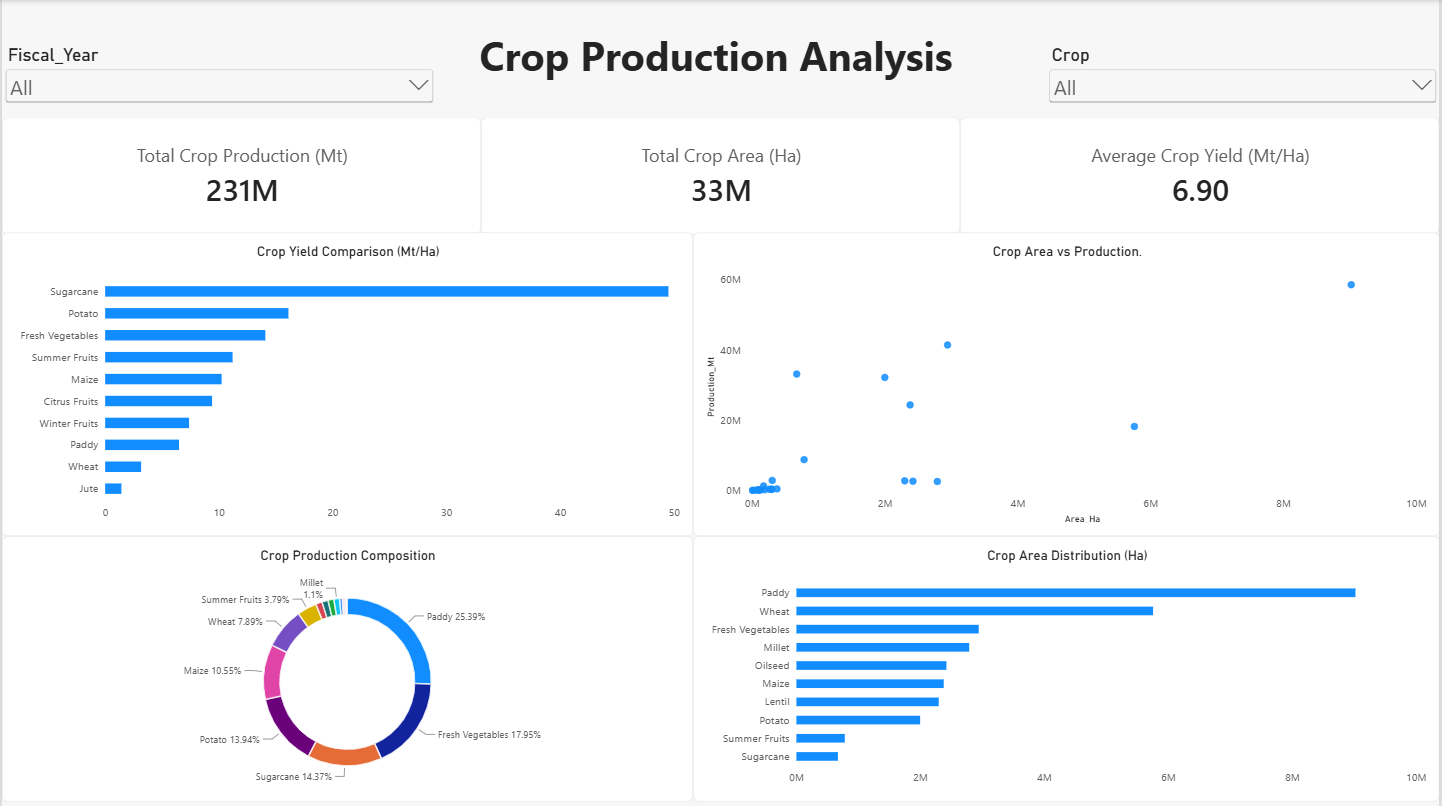

The page's visual inventory and layout, read from the dashboard file:
{"tool":"powerbi","page":{"name":"Crop Production Analysis","canvas":[1920,1080],"ordinal":2},"visuals":[{"type":"cardVisual","fields":{"Data":["_Measures.Total Crop Production (Mt)","_Measures.Total Crop Area (Ha)","_Measures.Average Crop Yield (Mt/Ha)"]},"box":[0,156.5,1920.4,156.5],"z":0},{"type":"slicer","fields":{"Values":["Dim_Crop.Crop"]},"box":[1394.1,58.4,526.6,97.7],"z":1000},{"type":"clusteredBarChart","title":"Crop Yield Comparison (Mt/Ha)","fields":{"Category":["Dim_Crop.Crop"],"Y":["_Measures.Average Crop Yield (Mt/Ha)"]},"box":[0,311.3,922.9,405.4],"z":2000},{"type":"scatterChart","title":"Crop Area vs Production.","fields":{"X":["Sum(Agriculture_Crop_Production_Yearly.Area_Ha)"],"Y":["Sum(Agriculture_Crop_Production_Yearly.Production_Mt)"],"Category":["Agriculture_Crop_Production_Yearly.Crop"]},"box":[922.9,311.3,997.1,405.4],"z":3000},{"type":"donutChart","title":"Crop Production Composition","fields":{"Category":["Agriculture_Crop_Production_Yearly.Crop"],"Y":["_Measures.Total Crop Production (Mt)"]},"box":[0,716.3,923,354],"z":4000},{"type":"clusteredBarChart","title":"Crop Area Distribution (Ha)","fields":{"Category":["Agriculture_Crop_Production_Yearly.Crop"],"Y":["_Measures.Total Crop Area (Ha)"]},"box":[923.4,716.3,997,354],"z":5000},{"type":"textbox","box":[539.3,36.2,828.8,119.4],"z":6000},{"type":"slicer","fields":{"Values":["Dim_Fiscal_Year.Fiscal_Year"]},"box":[0,57.9,580.9,97.7],"z":7000}]}

Visuals, with their boxes in screenshot pixels (x1, y1, x2, y2), scaled from the page's 1920x1080 canvas onto the 1442x806 screenshot:
cardVisual - _Measures.Total Crop Production (Mt) x _Measures.Total Crop Area (Ha): pyautogui.locateOnScreen(0, 117, 1441, 234)
slicer - Dim_Crop.Crop: pyautogui.locateOnScreen(1047, 44, 1441, 116)
"Crop Yield Comparison (Mt/Ha)" clusteredBarChart: pyautogui.locateOnScreen(0, 232, 693, 535)
"Crop Area vs Production." scatterChart: pyautogui.locateOnScreen(693, 232, 1441, 535)
"Crop Production Composition" donutChart: pyautogui.locateOnScreen(0, 535, 693, 799)
"Crop Area Distribution (Ha)" clusteredBarChart: pyautogui.locateOnScreen(694, 535, 1441, 799)
textbox: pyautogui.locateOnScreen(405, 27, 1028, 116)
slicer - Dim_Fiscal_Year.Fiscal_Year: pyautogui.locateOnScreen(0, 43, 436, 116)
